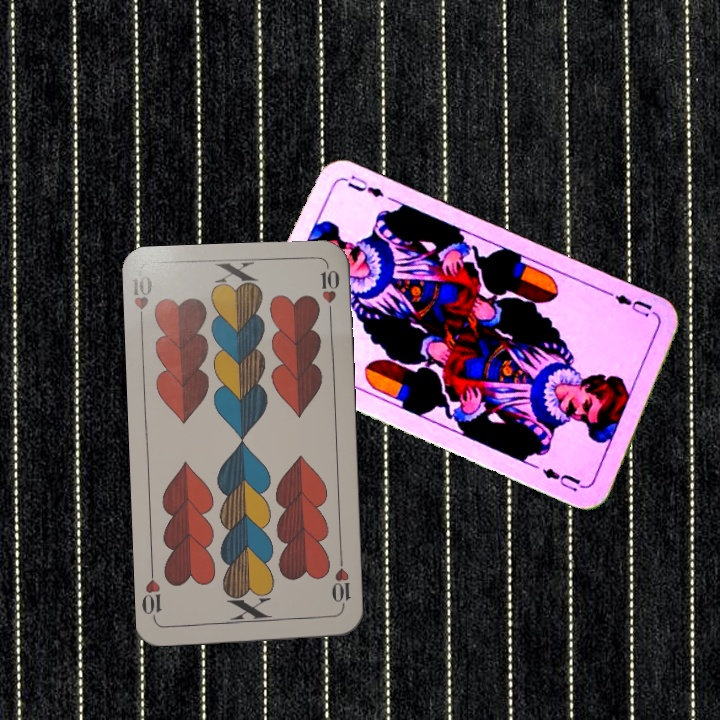EU: (610, 290, 655, 320)
H10: (327, 554, 354, 613), (129, 272, 155, 330)
